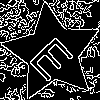E: (27, 28, 83, 84)
